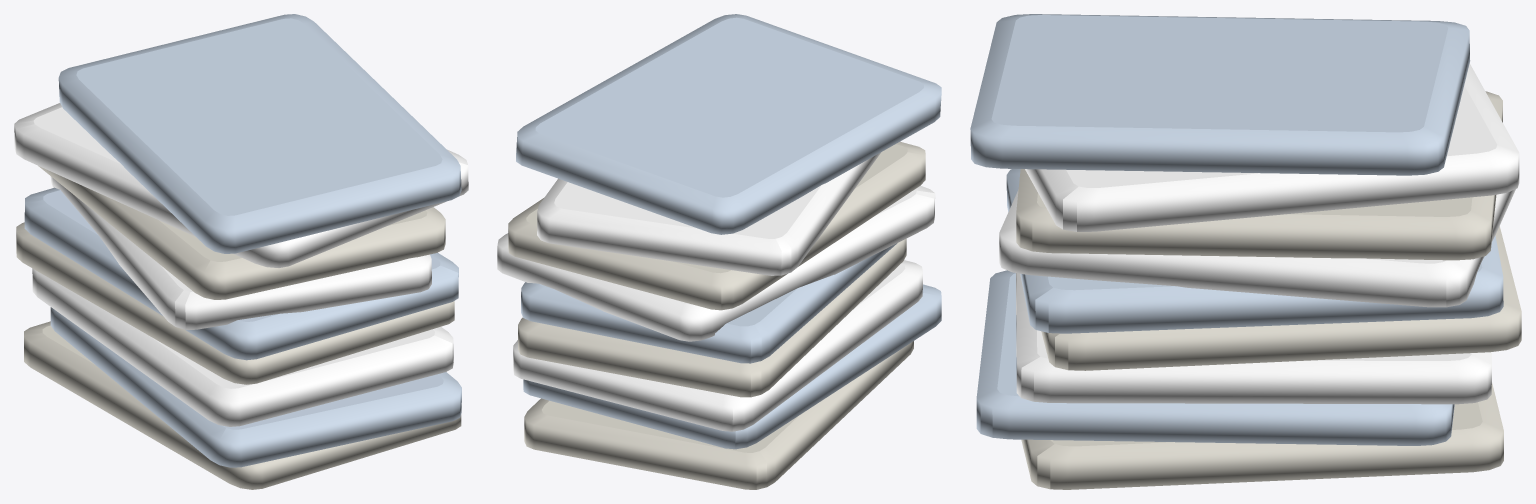
Rendered from Mattress_stack.fbx.
The picture shows the model from 3 angles, left to right: view 1: azimuth 30°, elevation 25°; view 2: azimuth 150°, elevation 25°; view 3: azimuth 270°, elevation 25°; orthographic projection. The views are drawn at different scales.
Visible parts, largest first — view 1: Cube.029; view 2: Cube.029; view 3: Cube.029.
Boxes of the visible parts, x1=… form: Cube.029: x1=14, y1=14, x2=468, y2=489; Cube.029: x1=497, y1=14, x2=941, y2=489; Cube.029: x1=970, y1=14, x2=1521, y2=489.
Bounding box in the file's own units: 175 × 165 × 232.
